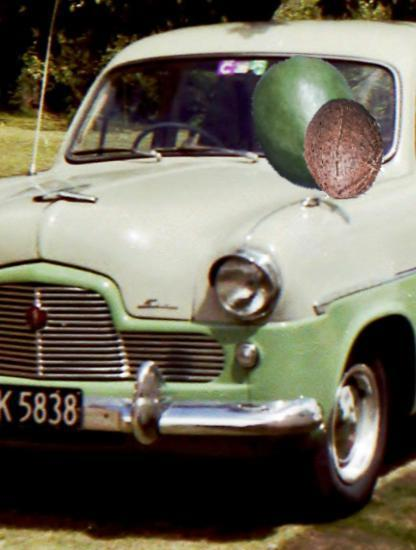Cocos: (291, 96, 395, 200)
Mango: (235, 55, 373, 193)
